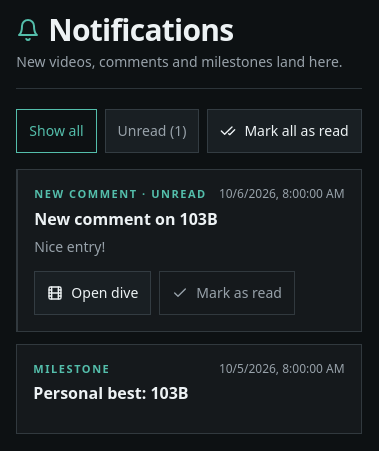
Test: Notifications page › marks one notification read
Expected: the heading "New comment on 103B" is shown, [34,208,218,230]
Click the button "Mark as read" at coordinates (227, 292), box [159,270,295,314]
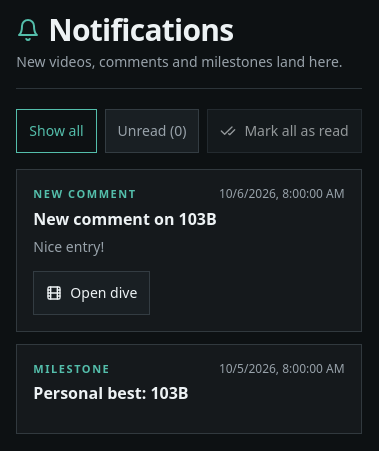
Now the button "Mark as read" is gone
